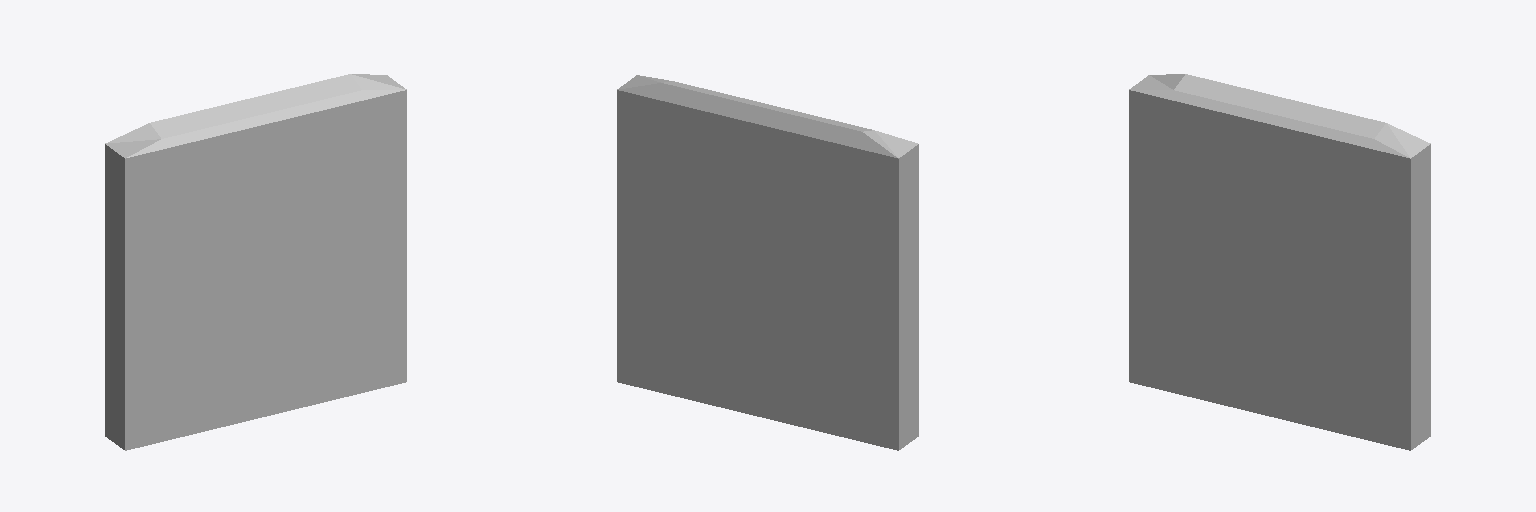
File: ShopWall.obj
The picture shows the model from 3 angles: view 1: azimuth 30°, elevation 25°; view 2: azimuth 150°, elevation 25°; view 3: azimuth 330°, elevation 25°; orthographic projection.
Visible parts, largest first — view 1: Cube_Cube.012; view 2: Cube_Cube.012; view 3: Cube_Cube.012.
Boxes of the visible parts, x1=… form: Cube_Cube.012: x1=105, y1=74, x2=406, y2=450; Cube_Cube.012: x1=617, y1=75, x2=918, y2=450; Cube_Cube.012: x1=1129, y1=74, x2=1430, y2=450.
Size of the model in its own units: 2 by 2.08 by 0.25.